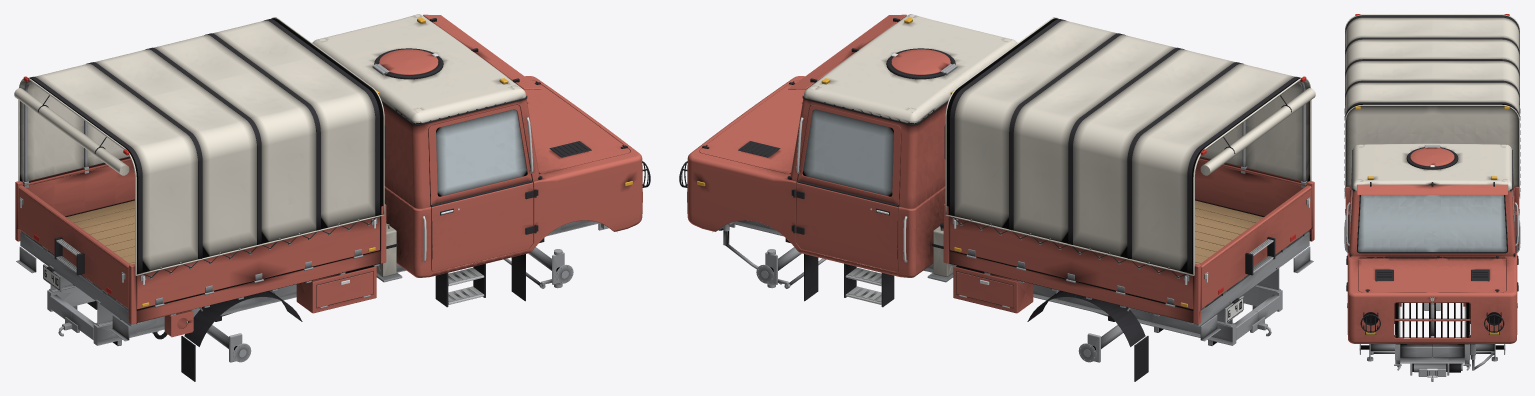
Rendered from rhino.glb.
3 renders of one model, left to right at view 1: azimuth 30°, elevation 25°; view 2: azimuth 150°, elevation 25°; view 3: azimuth 270°, elevation 25°, orthographic. The views are drawn at different scales.
Visible parts, largest first — view 1: BODY, P_door_FR, PG_door_FR, P_trunk, P_hood, UNDER, KNUCKLE_hub_FR; view 2: BODY, P_door_FL, PG_door_FL, UNDER, P_trunk, P_hood, KNUCKLE_hub_FL; view 3: BODY, GLASS, P_hood, UNDER, P_door_FL, P_door_FR.
Boxes of the visible parts, box(x1,y1,x2,y2) form: BODY: box(14, 14, 650, 381); P_door_FR: box(428, 104, 533, 271); PG_door_FR: box(436, 109, 527, 196); P_trunk: box(18, 185, 130, 308); P_hood: box(522, 80, 630, 173); UNDER: box(47, 220, 608, 348); KNUCKLE_hub_FR: box(541, 249, 573, 288); BODY: box(679, 14, 1315, 381); P_door_FL: box(796, 104, 901, 271); PG_door_FL: box(802, 109, 893, 196); UNDER: box(718, 220, 1282, 348); P_trunk: box(1199, 185, 1311, 308); P_hood: box(699, 80, 807, 173); KNUCKLE_hub_FL: box(756, 249, 788, 288); BODY: box(1344, 14, 1520, 344); GLASS: box(1358, 195, 1506, 251); P_hood: box(1358, 258, 1506, 292); UNDER: box(1370, 302, 1494, 381); P_door_FL: box(1512, 170, 1518, 285); P_door_FR: box(1346, 170, 1352, 285).
Bounding box in the file's own units: 6.15 × 2.66 × 2.29.
